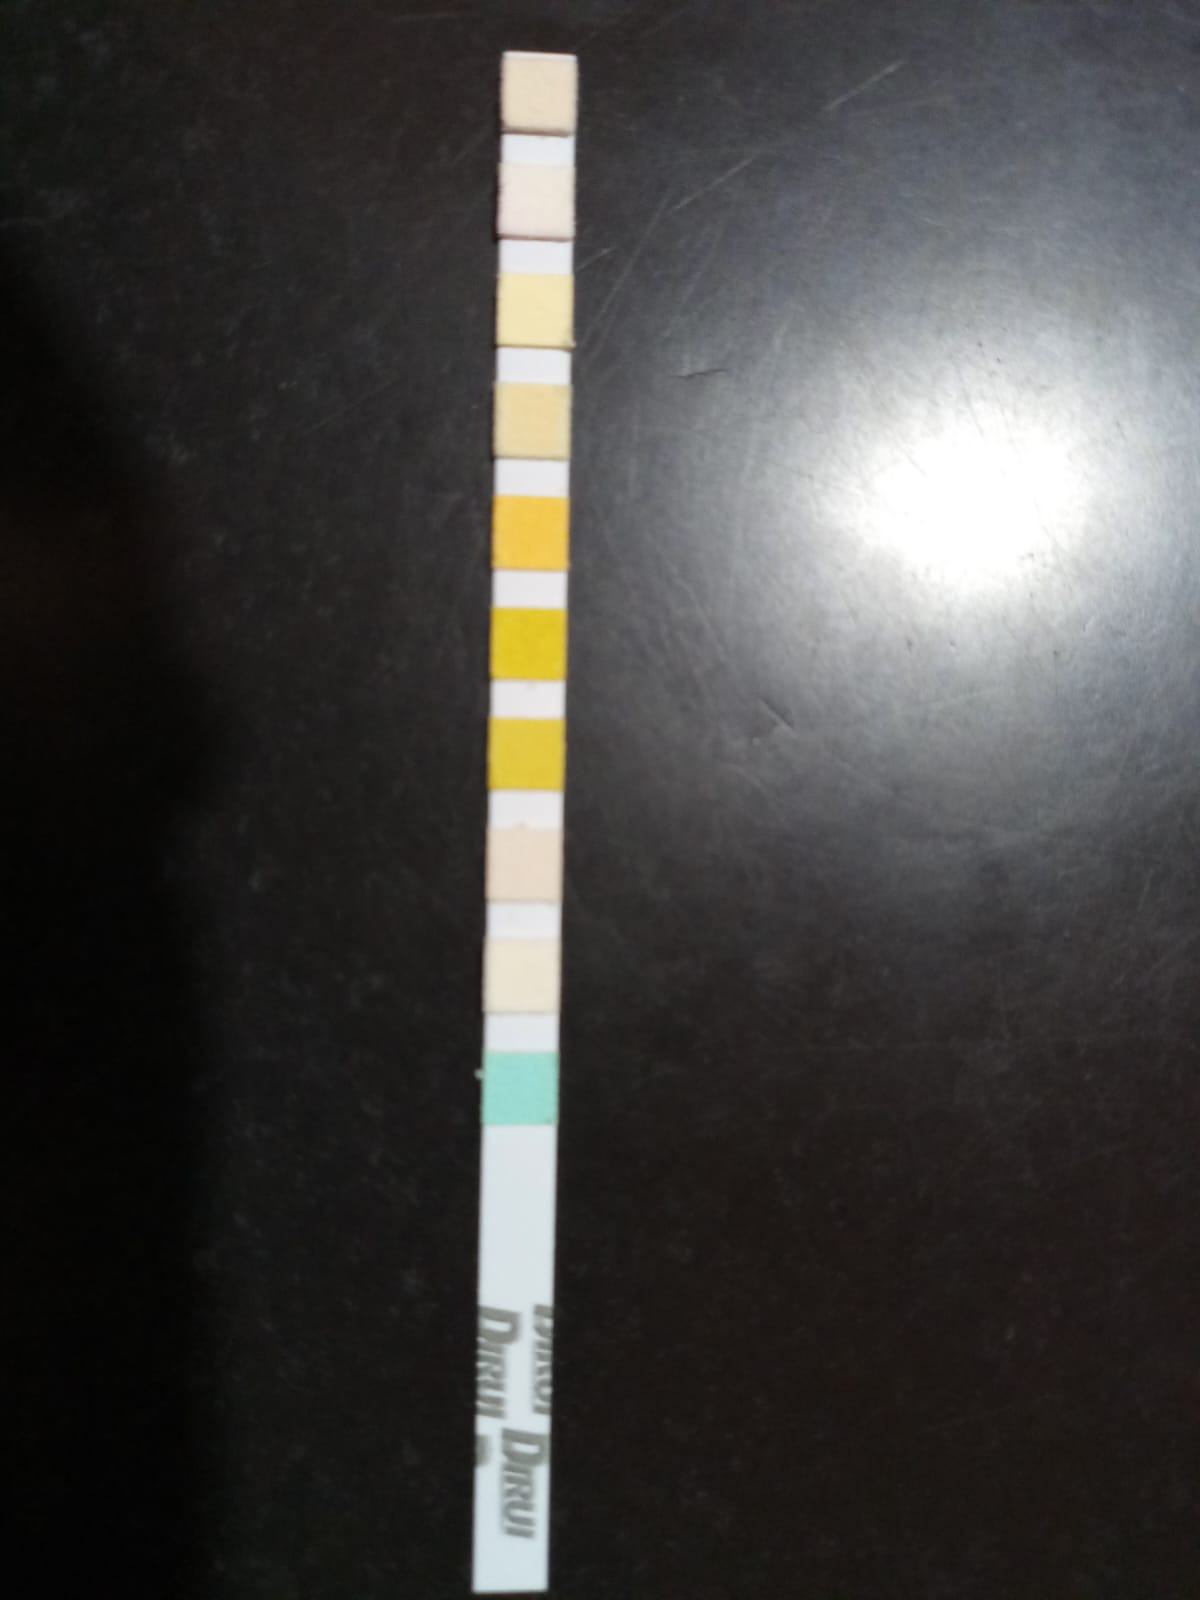color 1: (505, 60, 574, 126)
color 10: (487, 1058, 552, 1119)
color 2: (504, 168, 567, 232)
color 3: (500, 278, 570, 340)
color 4: (495, 386, 565, 451)
color 5: (498, 500, 563, 563)
color 6: (494, 610, 561, 671)
color 7: (492, 721, 561, 785)
color 8: (489, 834, 557, 896)
color 9: (485, 942, 557, 1007)
